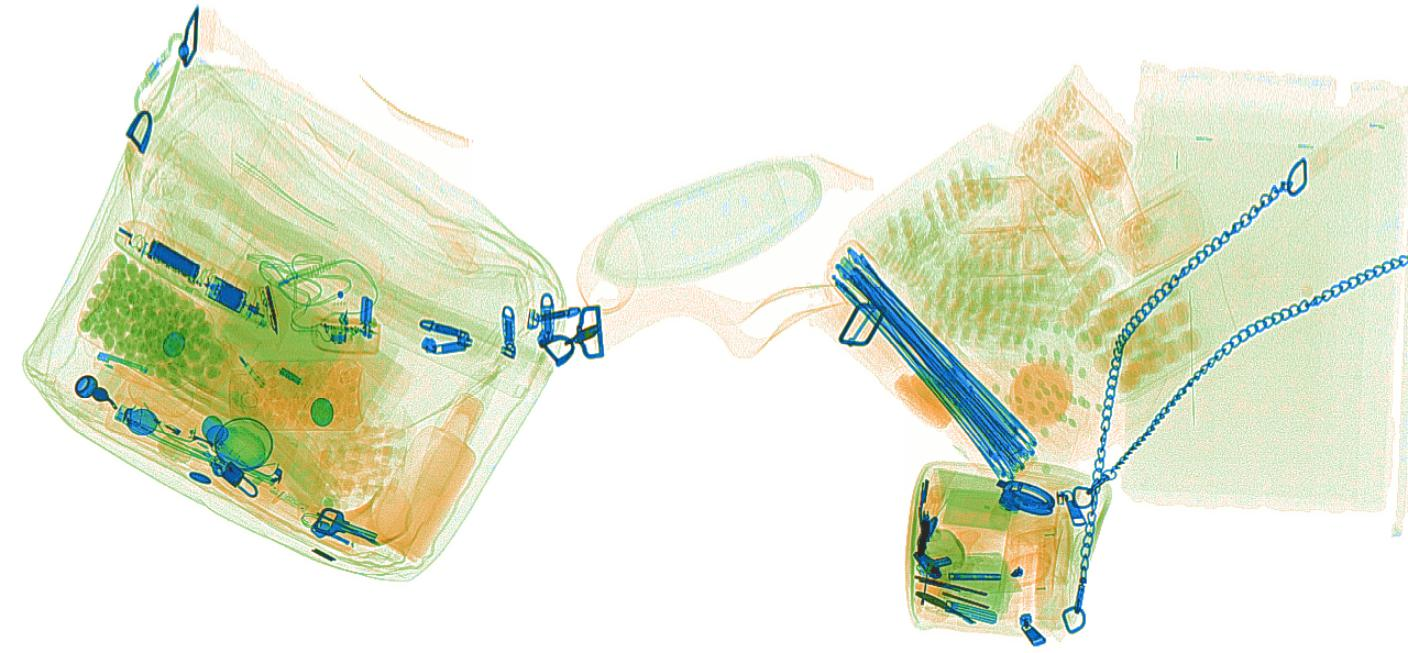battery: (146, 238, 203, 281)
lighter: (112, 403, 200, 457)
